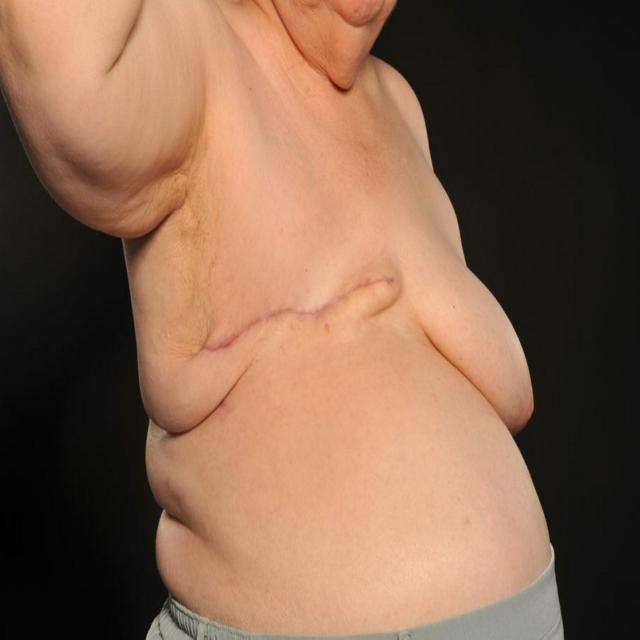wound: (199, 267, 402, 356)
